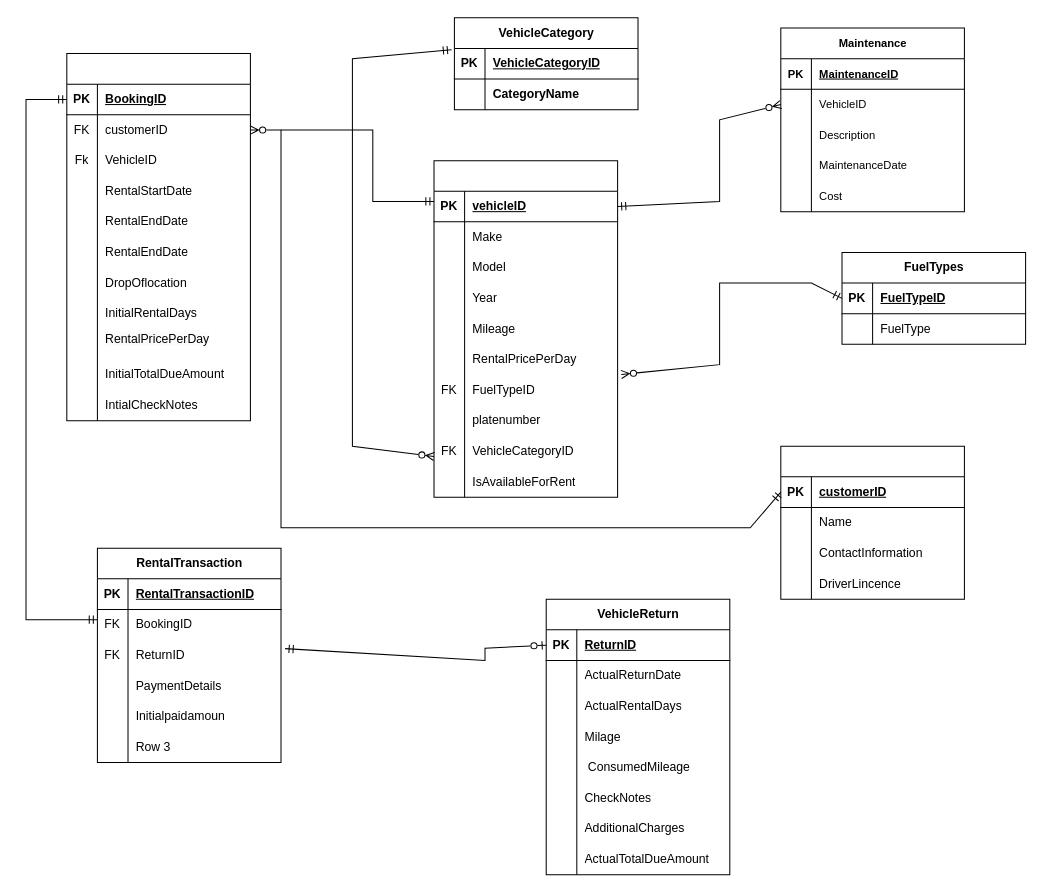
Image size: 1043x893. Some labels were removed from this diagram. The shapes that lost their labels are listed below. From the top down, each one's box as (x1, y1, x2, y2) in pixels, then its label:
(66, 53, 250, 421): Rentbooking
(433, 160, 618, 497): vehicles
(780, 445, 964, 599): customers
